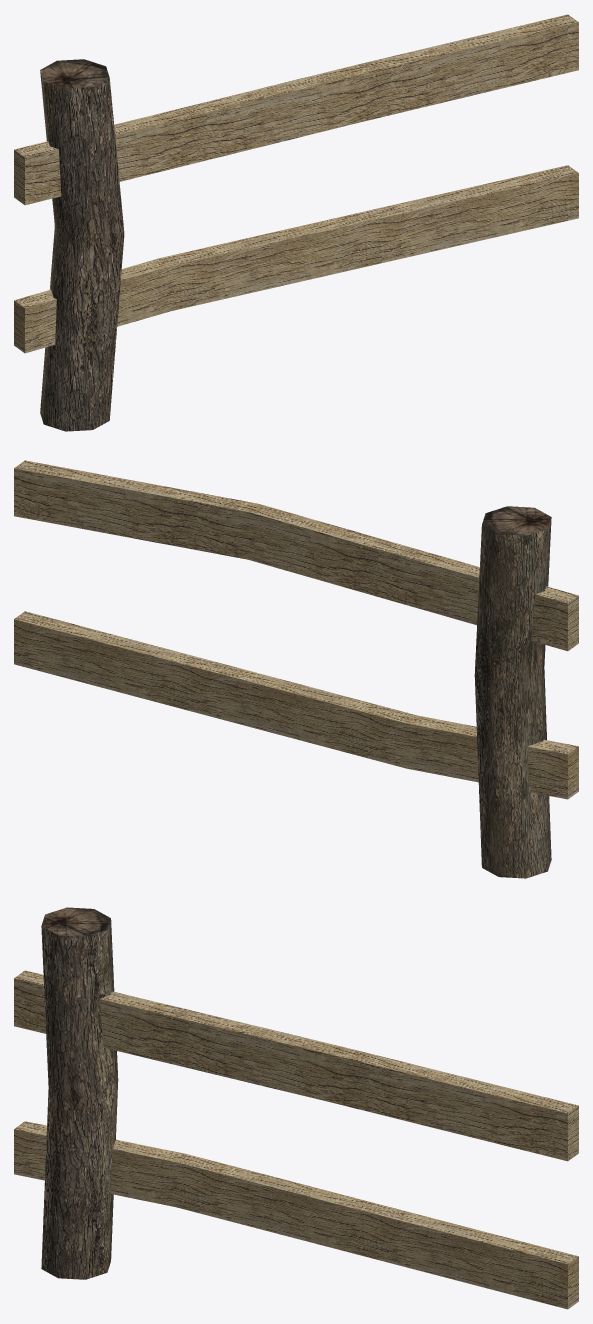
Rendered from woodenFence08.FBX.
The picture shows the model from 3 angles, top to bottom: view 1: azimuth 30°, elevation 25°; view 2: azimuth 150°, elevation 25°; view 3: azimuth 330°, elevation 25°; orthographic projection.
Parts seen in each view (by area): view 1: wooden_fence_small_1pole_L; view 2: wooden_fence_small_1pole_L; view 3: wooden_fence_small_1pole_L.
Part boxes in pixels (bbox=[...]): wooden_fence_small_1pole_L: bbox=[14, 14, 578, 431]; wooden_fence_small_1pole_L: bbox=[14, 460, 578, 878]; wooden_fence_small_1pole_L: bbox=[14, 907, 578, 1309].
Bounding box in the file's own units: 254 × 150 × 31.6.
